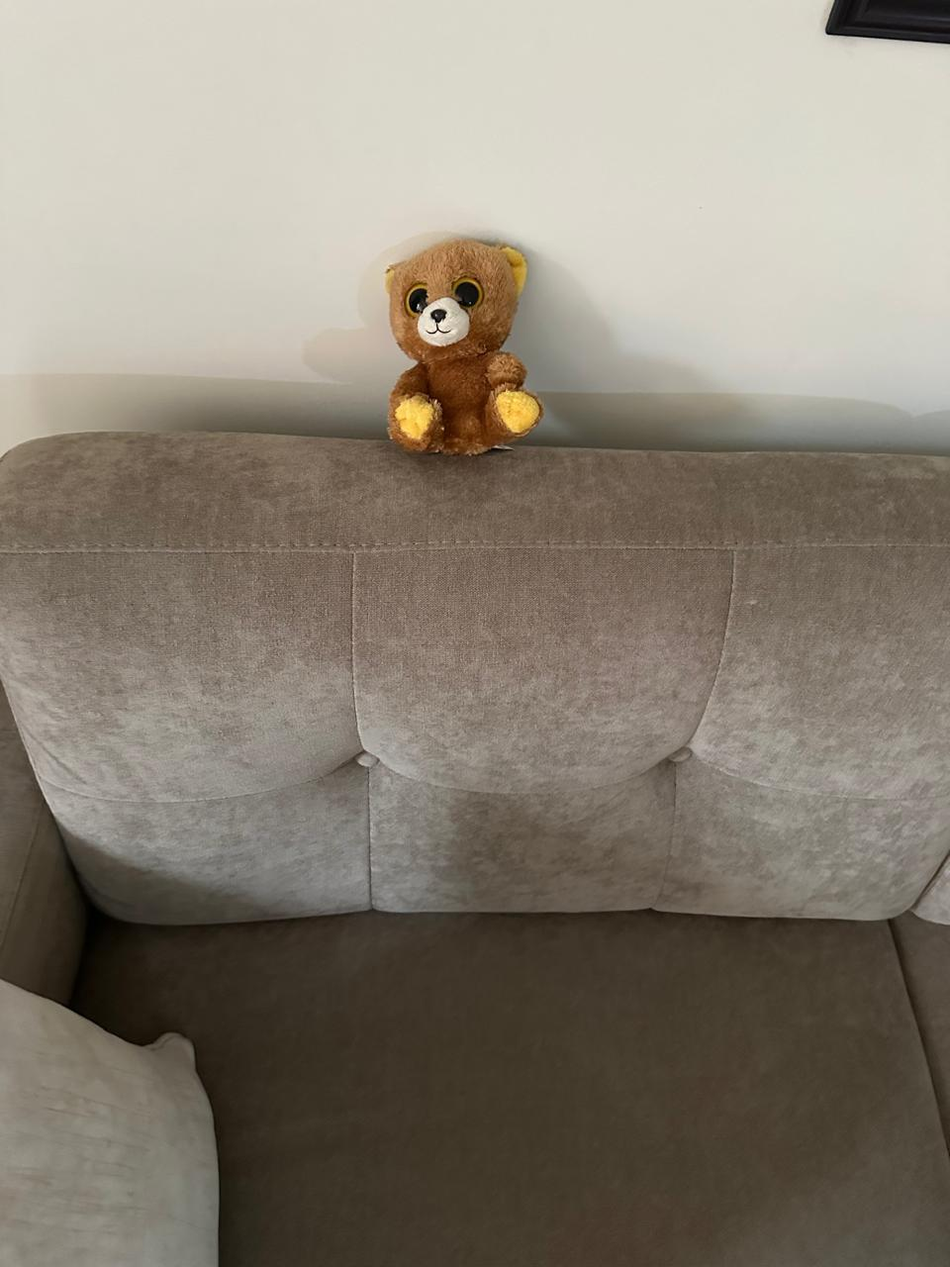peluche_sebastian: (371, 238, 539, 455)
